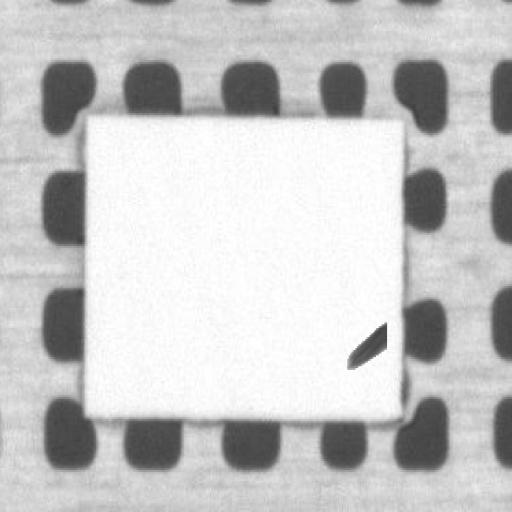DIE_INK: (344, 319, 386, 372)
